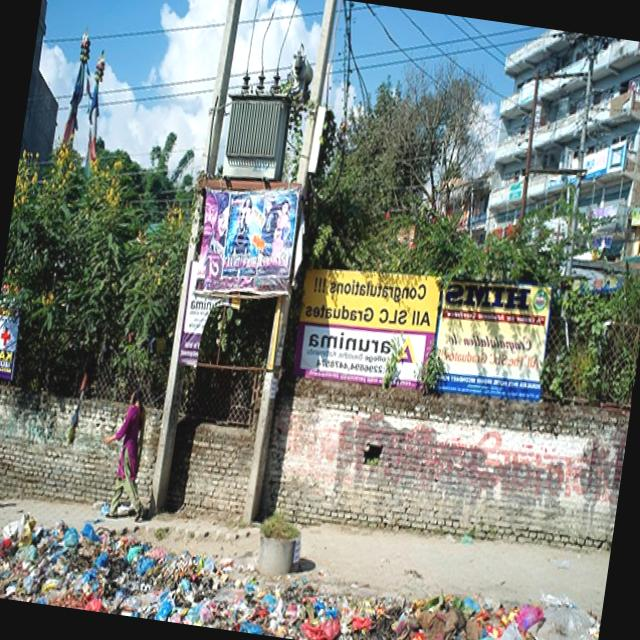garbage: (0, 490, 606, 640)
